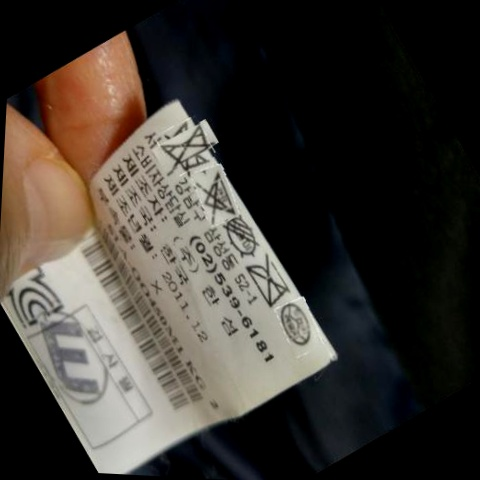DN_iron: (161, 123, 217, 174), (246, 256, 291, 302)
dry_clean_petrol_only: (275, 301, 323, 348)
line_dry_in_shade: (223, 215, 257, 262)
non_chlorine_bleach: (200, 171, 237, 221)
